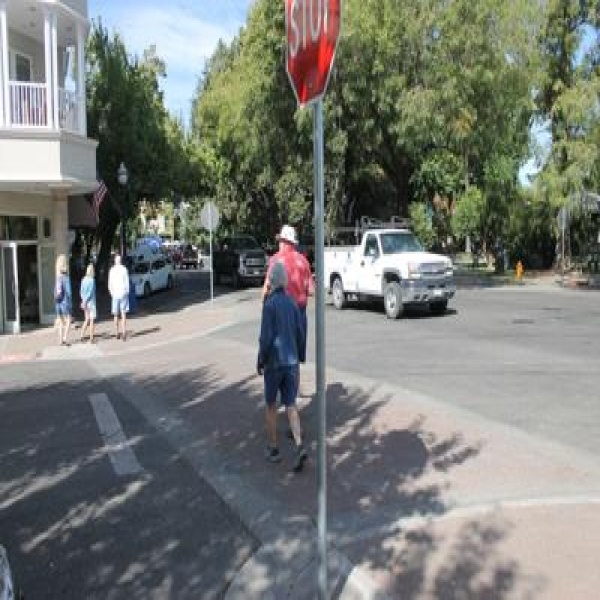stop: (282, 1, 348, 102)
